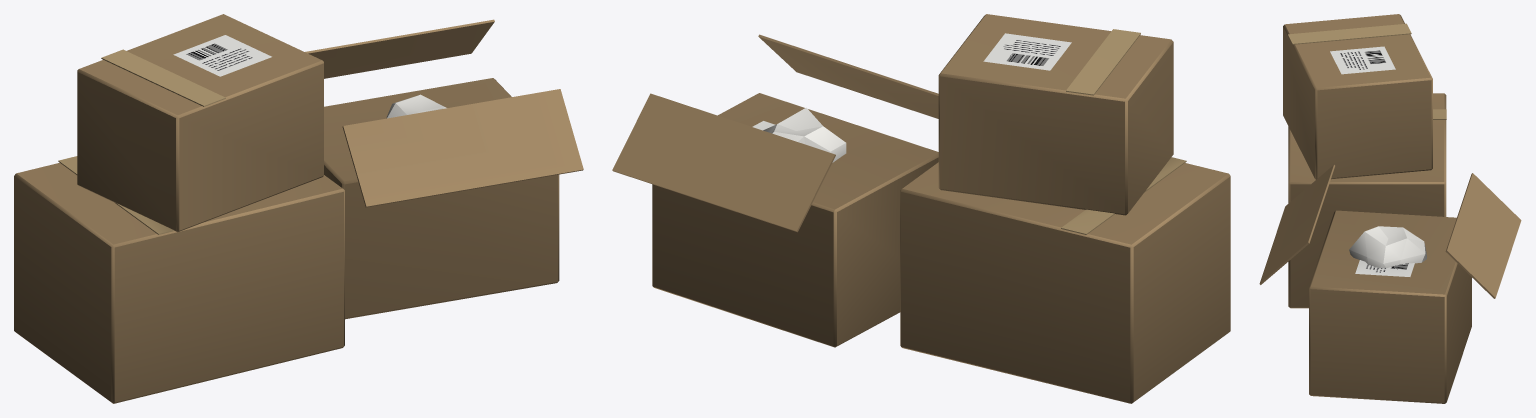
Rendered from parcel_boxes.glb.
3 views of the same model, side by side, from view 1: azimuth 30°, elevation 25°; view 2: azimuth 150°, elevation 25°; view 3: azimuth 270°, elevation 25° (orthographic). The views are drawn at different scales.
Visible parts, largest first — view 1: body, panels; view 2: body, panels; view 3: body, panels.
Boxes of the visible parts, x1=… form: body: x1=14, y1=14, x2=583, y2=403; panels: x1=173, y1=35, x2=271, y2=76; body: x1=612, y1=14, x2=1230, y2=403; panels: x1=752, y1=33, x2=1071, y2=130; body: x1=1259, y1=14, x2=1521, y2=403; panels: x1=1330, y1=46, x2=1414, y2=276.
Size of what is drawn, in the model's own units: 0.9638 by 0.522 by 0.5646.
Materials: 4 (1 with a texture image).
